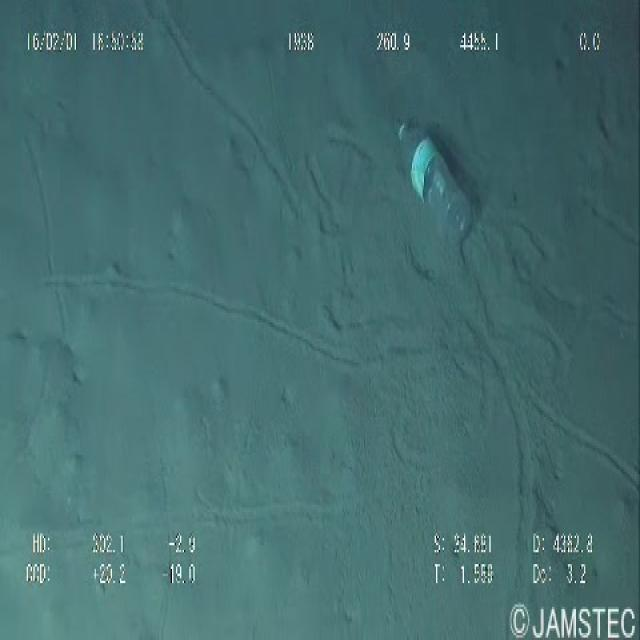plastic: (387, 102, 492, 256)
